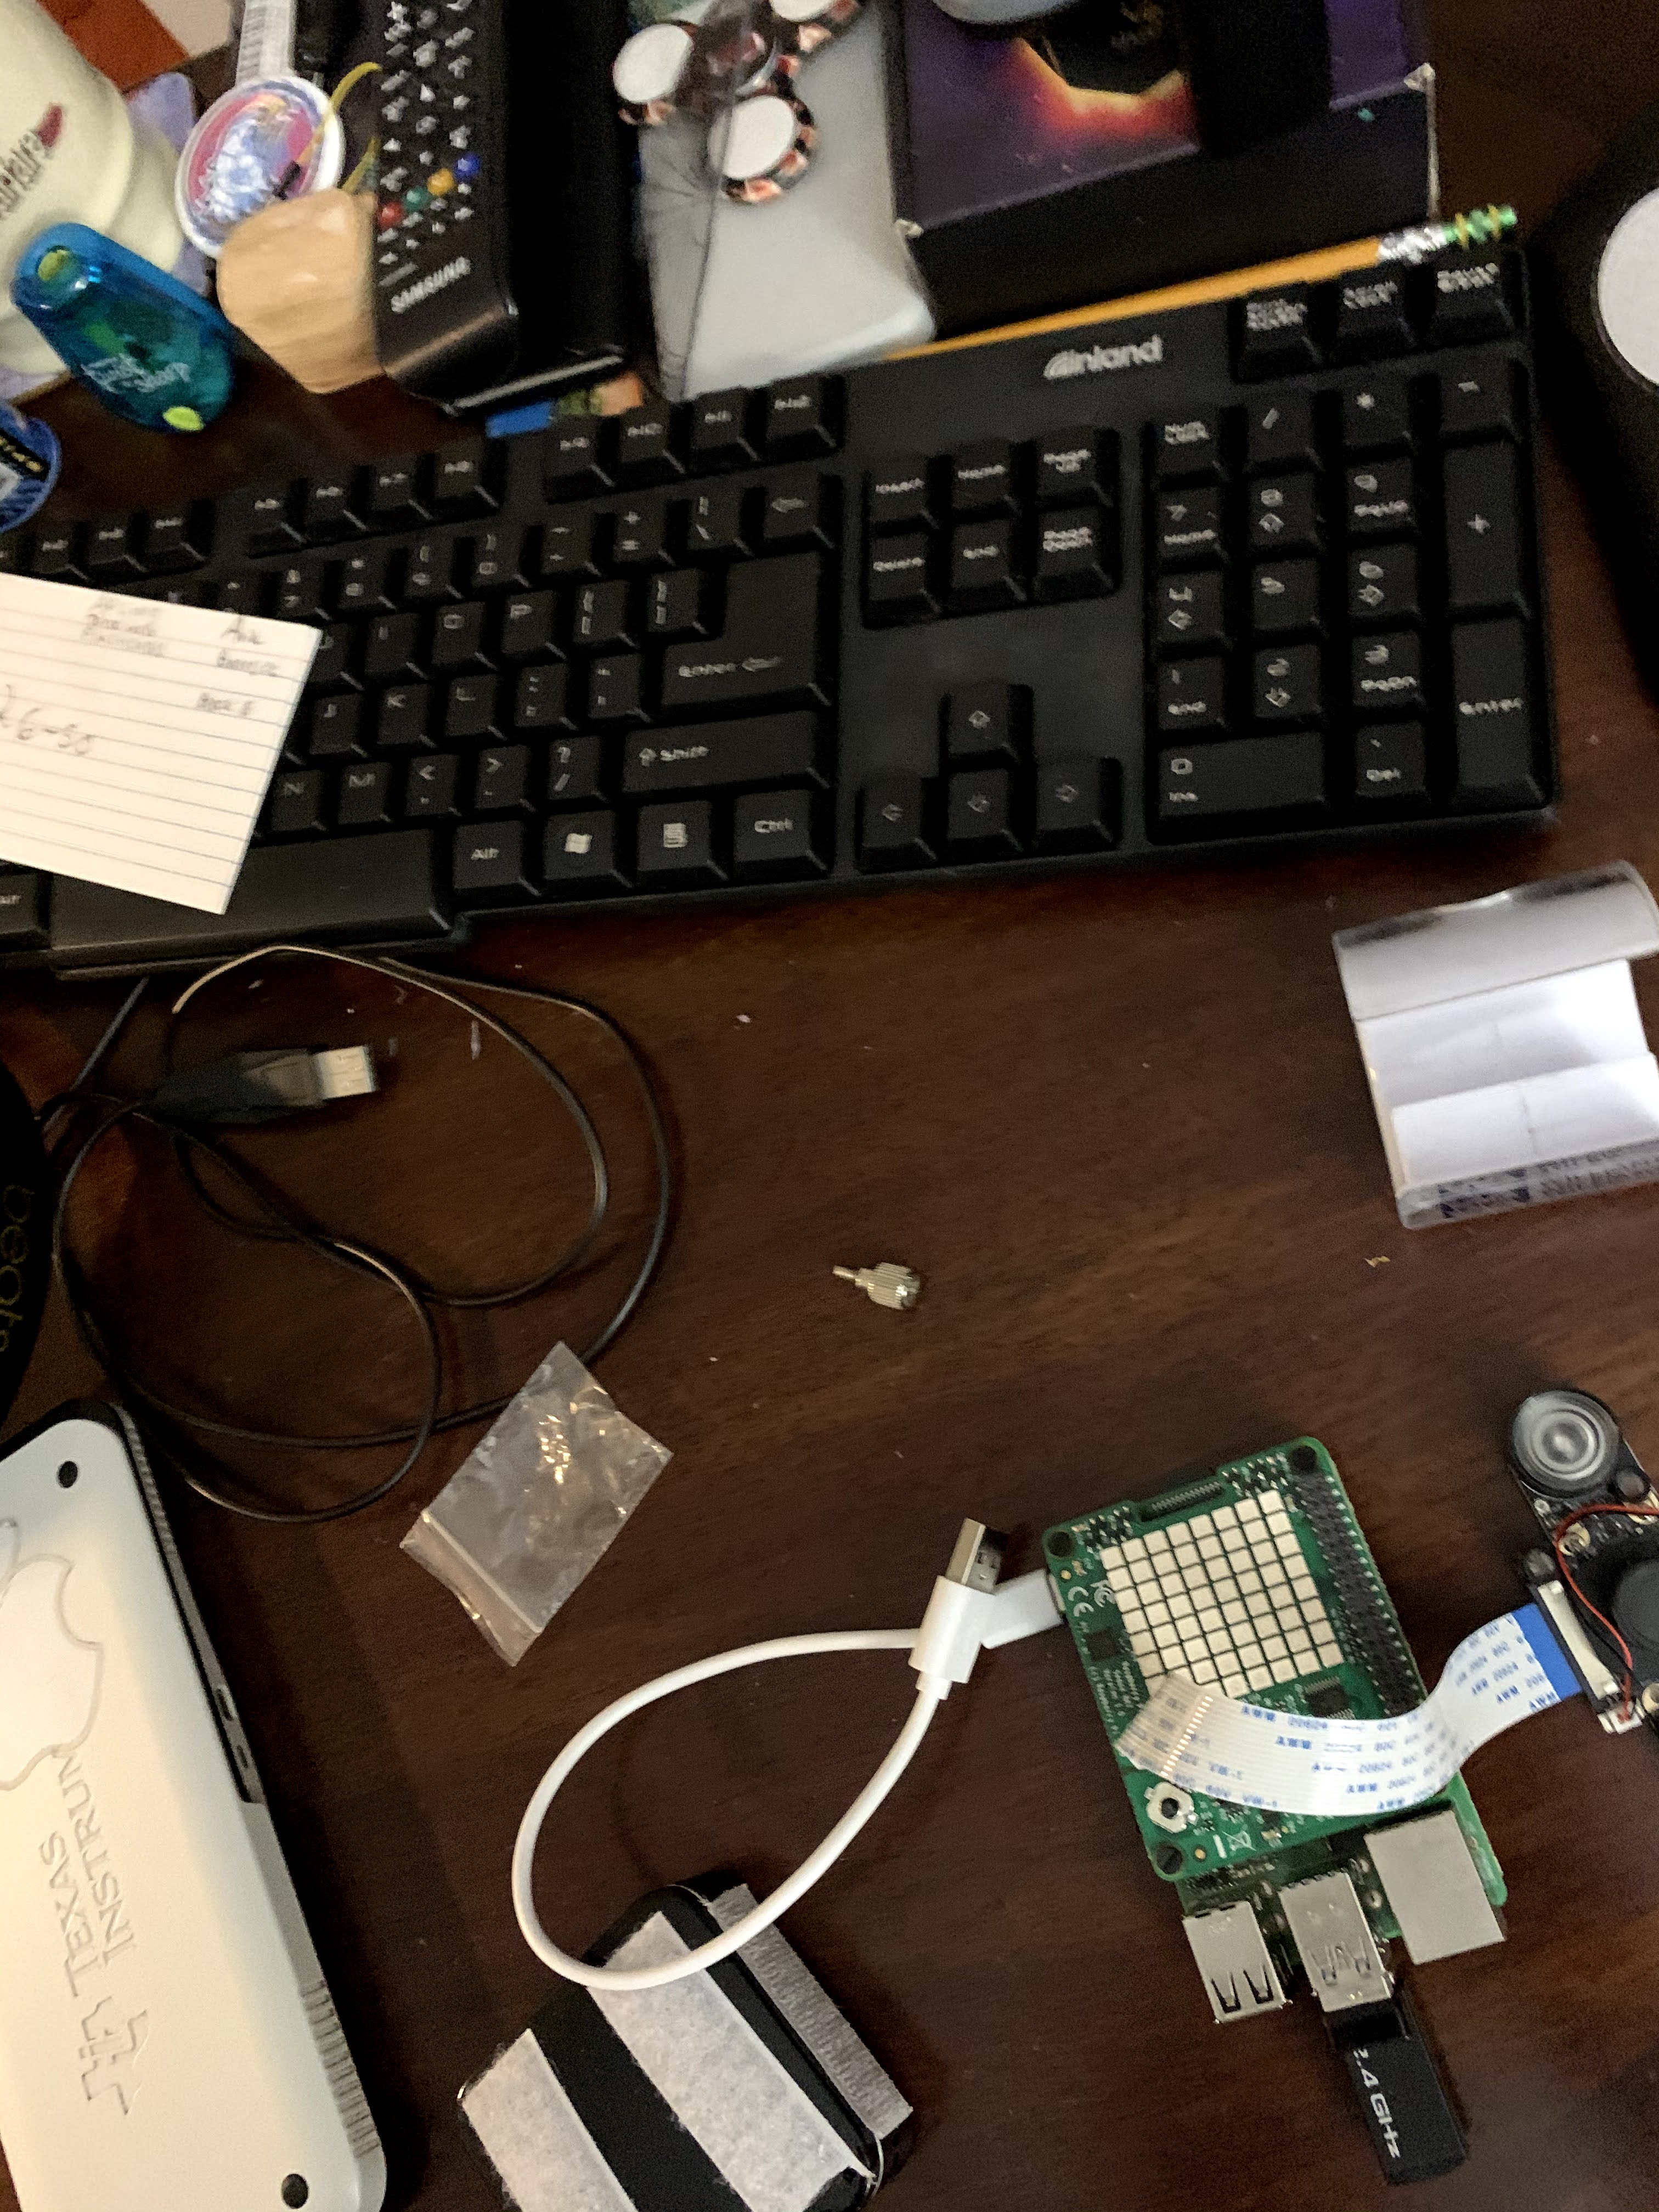Space-debris-small: (826, 1256, 929, 1313)
